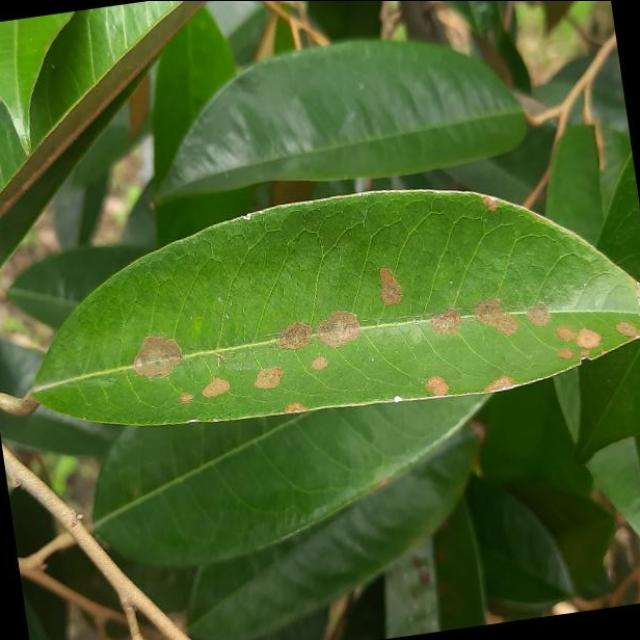Algal Leaf Spot: (2, 142, 640, 464)
